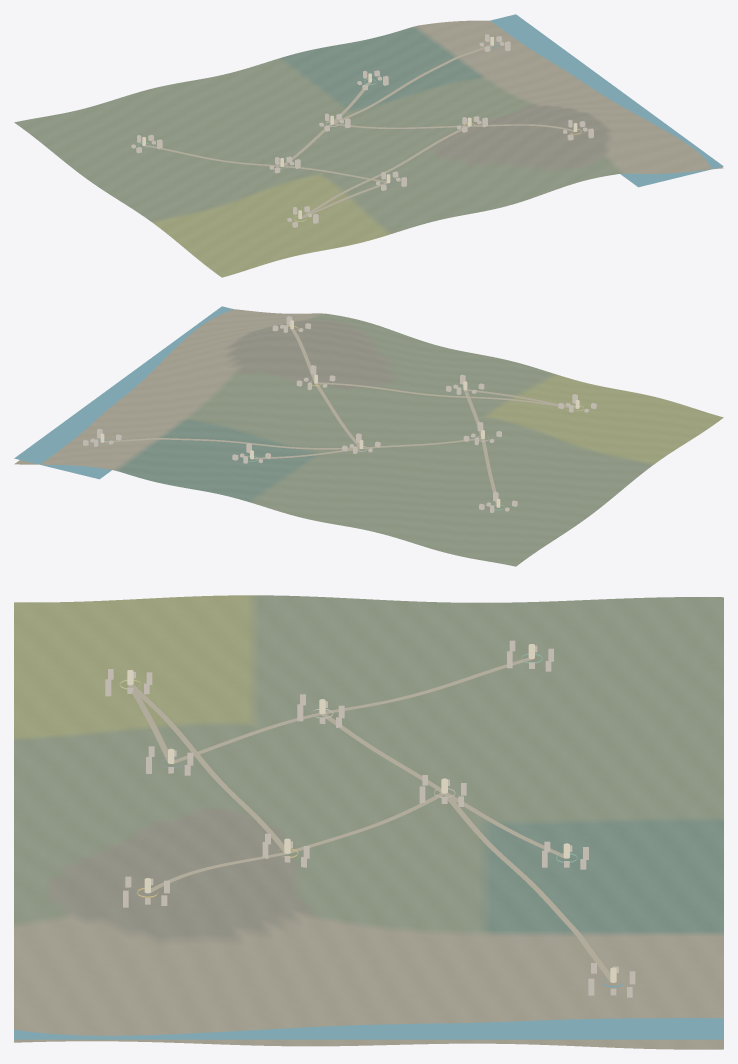
File: arco_da_continuidade_estrategico.glb
The picture shows the model from 3 angles, top to bottom: view 1: azimuth 30°, elevation 25°; view 2: azimuth 150°, elevation 25°; view 3: azimuth 270°, elevation 25°; orthographic projection. The views are drawn at different scales.
Visible parts, largest first — view 1: TERRAIN_STRATEGIC_SCHEMATIC, SEA_PLANE, ROUTE__nova_aurora__cinturao_verde, ROUTE__sao_paulo_velha__costa_afundada; view 2: TERRAIN_STRATEGIC_SCHEMATIC, SEA_PLANE, ROUTE__nova_aurora__cinturao_verde, ROUTE__sao_paulo_velha__costa_afundada; view 3: TERRAIN_STRATEGIC_SCHEMATIC, SEA_PLANE, ROUTE__sao_paulo_velha__costa_afundada, ROUTE__nova_aurora__cinturao_verde, ROUTE__estacao_nove__refugio_livre.
Boxes of the visible parts, bbox=[...] form: TERRAIN_STRATEGIC_SCHEMATIC: bbox=[14, 20, 723, 277]; SEA_PLANE: bbox=[490, 14, 723, 187]; ROUTE__nova_aurora__cinturao_verde: bbox=[302, 125, 469, 218]; ROUTE__sao_paulo_velha__costa_afundada: bbox=[335, 45, 493, 123]; TERRAIN_STRATEGIC_SCHEMATIC: bbox=[14, 309, 723, 566]; SEA_PLANE: bbox=[14, 306, 233, 479]; ROUTE__nova_aurora__cinturao_verde: bbox=[316, 382, 576, 408]; ROUTE__sao_paulo_velha__costa_afundada: bbox=[102, 438, 360, 449]; TERRAIN_STRATEGIC_SCHEMATIC: bbox=[14, 595, 723, 1049]; SEA_PLANE: bbox=[14, 1018, 723, 1039]; ROUTE__sao_paulo_velha__costa_afundada: bbox=[443, 793, 610, 982]; ROUTE__nova_aurora__cinturao_verde: bbox=[128, 684, 284, 852]; ROUTE__estacao_nove__refugio_livre: bbox=[324, 657, 533, 714].
Bounding box in the file's own units: 170 × 15.04 × 122.
